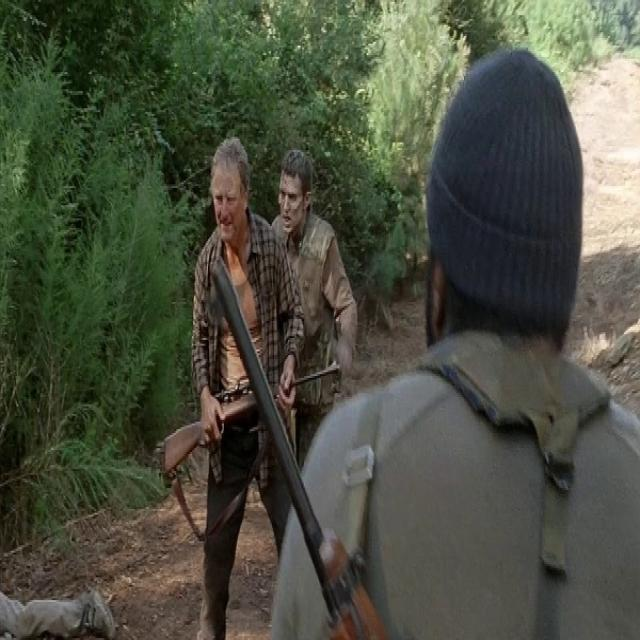rifle: (155, 364, 344, 496)
